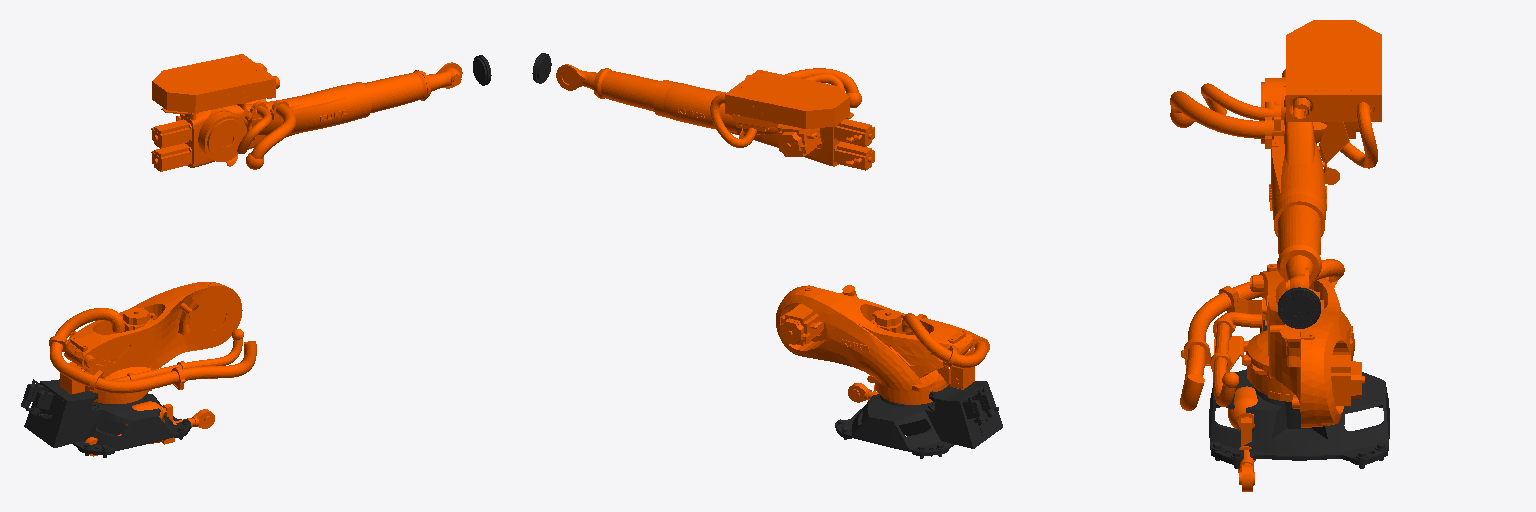
URDF robot description (kuka_kr120_r3900_ultra_k_f_hp):
<?xml version="1.0"?>
<robot name="kuka_kr120_r3900_ultra_k_f_hp">
  <material name="kuka_orange"><color rgba="1.00 0.40 0.00 1.0"/></material>
  <material name="kuka_dark_gray"><color rgba="0.20 0.20 0.20 1.0"/></material>

  <link name="base_link">
    <inertial>
      <origin xyz="-0.188277 0.000153 0.138686" rpy="0 0 0"/>
      <mass value="213.333"/>
      <inertia ixx="6.946073" ixy="0.087961" ixz="1.353677" iyy="11.015422" iyz="-0.030841" izz="15.103490"/>
    </inertial>
    <visual>
      <origin xyz="0 0 0" rpy="0 0 0"/>
      <geometry><mesh filename="meshes/visual/base_link.stl"/></geometry>
      <material name="kuka_dark_gray"/>
    </visual>
    <collision>
      <origin xyz="0 0 0" rpy="0 0 0"/>
      <geometry><mesh filename="meshes/visual/base_link.stl"/></geometry>
    </collision>
  </link>

  <link name="link_1">
    <inertial>
      <origin xyz="0.219565 -0.062623 0.473525" rpy="0 0 0"/>
      <mass value="265.900"/>
      <inertia ixx="13.081316" ixy="-2.682031" ixz="-2.599007" iyy="29.131528" iyz="-2.532057" izz="29.247532"/>
    </inertial>
    <visual>
      <origin xyz="0 0 0" rpy="0 0 0"/>
      <geometry><mesh filename="meshes/visual/link_1.stl"/></geometry>
      <material name="kuka_orange"/>
    </visual>
    <collision>
      <origin xyz="0 0 0" rpy="0 0 0"/>
      <geometry><mesh filename="meshes/visual/link_1.stl"/></geometry>
    </collision>
  </link>

  <link name="link_2">
    <inertial>
      <origin xyz="0.001358 -0.275709 0.599331" rpy="0 0 0"/>
      <mass value="819.500"/>
      <inertia ixx="132.659316" ixy="-0.120738" ixz="-0.656177" iyy="129.180622" iyz="8.520620" izz="14.825736"/>
    </inertial>
    <visual>
      <origin xyz="0 0 0" rpy="0 0 0"/>
      <geometry><mesh filename="meshes/visual/link_2.stl"/></geometry>
      <material name="kuka_orange"/>
    </visual>
    <collision>
      <origin xyz="0 0 0" rpy="0 0 0"/>
      <geometry><mesh filename="meshes/visual/link_2.stl"/></geometry>
    </collision>
  </link>

  <link name="link_3">
    <inertial>
      <origin xyz="0.273939 0.019871 0.066875" rpy="0 0 0"/>
      <mass value="621.600"/>
      <inertia ixx="20.481388" ixy="0.983033" ixz="5.492563" iyy="81.453062" iyz="-1.987178" izz="86.981676"/>
    </inertial>
    <visual>
      <origin xyz="0 0 0" rpy="0 0 0"/>
      <geometry><mesh filename="meshes/visual/link_3.stl"/></geometry>
      <material name="kuka_orange"/>
    </visual>
    <collision>
      <origin xyz="0 0 0" rpy="0 0 0"/>
      <geometry><mesh filename="meshes/visual/link_3.stl"/></geometry>
    </collision>
  </link>

  <link name="link_4">
    <inertial>
      <origin xyz="-0.112935 0.005035 0.000000" rpy="0 0 0"/>
      <mass value="52.400"/>
      <inertia ixx="0.181696" ixy="-0.021491" ixz="0.000004" iyy="0.503461" iyz="0.000224" izz="0.502078"/>
    </inertial>
    <visual>
      <origin xyz="0 0 0" rpy="0 0 0"/>
      <geometry><mesh filename="meshes/visual/link_4.stl"/></geometry>
      <material name="kuka_orange"/>
    </visual>
    <collision>
      <origin xyz="0 0 0" rpy="0 0 0"/>
      <geometry><mesh filename="meshes/visual/link_4.stl"/></geometry>
    </collision>
  </link>

  <link name="link_5">
    <inertial>
      <origin xyz="0.046331 0.015550 -0.000085" rpy="0 0 0"/>
      <mass value="43.900"/>
      <inertia ixx="0.361879" ixy="0.023557" ixz="0.000202" iyy="0.335017" iyz="0.000218" izz="0.477328"/>
    </inertial>
    <visual>
      <origin xyz="0 0 0" rpy="0 0 0"/>
      <geometry><mesh filename="meshes/visual/link_5.stl"/></geometry>
      <material name="kuka_orange"/>
    </visual>
    <collision>
      <origin xyz="0 0 0" rpy="0 0 0"/>
      <geometry><mesh filename="meshes/visual/link_5.stl"/></geometry>
    </collision>
  </link>

  <link name="link_6">
    <inertial>
      <origin xyz="-0.014731 0.000013 -0.000218" rpy="0 0 0"/>
      <mass value="46.160"/>
      <inertia ixx="0.192127" ixy="-0.000003" ixz="-0.000038" iyy="0.124052" iyz="-0.001038" izz="0.123787"/>
    </inertial>
    <visual>
      <origin xyz="0 0 0" rpy="0 0 0"/>
      <geometry><mesh filename="meshes/visual/link_6.stl"/></geometry>
      <material name="kuka_dark_gray"/>
    </visual>
    <collision>
      <origin xyz="0 0 0" rpy="0 0 0"/>
      <geometry><mesh filename="meshes/visual/link_6.stl"/></geometry>
    </collision>
  </link>

  <link name="tool0"/>

  <joint name="joint_a1" type="revolute">
    <parent link="base_link"/>
    <child link="link_1"/>
    <origin xyz="0.000000 0.000000 0.000000" rpy="0 0 0"/>
    <axis xyz="0.0 0.0 -1.0"/>
    <limit lower="-3.228859" upper="3.228859" effort="9600.0" velocity="1.834634"/>
    <dynamics damping="5.0" friction="1.0"/>
  </joint>

  <joint name="joint_a2" type="revolute">
    <parent link="link_1"/>
    <child link="link_2"/>
    <origin xyz="0.750000 0.000000 0.590000" rpy="0 0 0"/>
    <axis xyz="0.0 1.0 0.0"/>
    <limit lower="-0.523599" upper="2.792527" effort="9600.0" velocity="1.762111"/>
    <dynamics damping="5.0" friction="1.0"/>
  </joint>

  <joint name="joint_a3" type="revolute">
    <parent link="link_2"/>
    <child link="link_3"/>
    <origin xyz="0.000000 0.000000 1.350000" rpy="0 0 0"/>
    <axis xyz="0.0 1.0 0.0"/>
    <limit lower="-3.665191" upper="1.134464" effort="6686.8" velocity="1.867525"/>
    <dynamics damping="5.0" friction="1.0"/>
  </joint>

  <joint name="joint_a4" type="revolute">
    <parent link="link_3"/>
    <child link="link_4"/>
    <origin xyz="1.800000 0.000000 -0.041000" rpy="0 0 0"/>
    <axis xyz="-1.0 0.0 -0.0"/>
    <limit lower="-6.108652" upper="6.108652" effort="2275.4" velocity="5.094285"/>
    <dynamics damping="5.0" friction="1.0"/>
  </joint>

  <joint name="joint_a5" type="revolute">
    <parent link="link_4"/>
    <child link="link_5"/>
    <origin xyz="0.000000 0.000000 0.000000" rpy="0 0 0"/>
    <axis xyz="0.0 1.0 0.0"/>
    <limit lower="-2.181662" upper="2.181662" effort="1375.4" velocity="4.495125"/>
    <dynamics damping="5.0" friction="1.0"/>
  </joint>

  <joint name="joint_a6" type="revolute">
    <parent link="link_5"/>
    <child link="link_6"/>
    <origin xyz="0.240000 0.000000 0.000000" rpy="0 0 0"/>
    <axis xyz="-1.0 0.0 -0.0"/>
    <limit lower="-6.108652" upper="6.108652" effort="872.4" velocity="4.957669"/>
    <dynamics damping="5.0" friction="1.0"/>
  </joint>

  <joint name="link_6-tool0" type="fixed">
    <parent link="link_6"/>
    <child link="tool0"/>
    <origin xyz="0.000000 0.000000 0.000000" rpy="0 1.57079632679 0"/>
  </joint>
</robot>

--- Render facts (derived) ---
3 views of the same robot in one strip: view 1: azimuth 30°, elevation 25°; view 2: azimuth 150°, elevation 25°; view 3: azimuth 270°, elevation 25° (orthographic).
Robot: kuka_kr120_r3900_ultra_k_f_hp — 8 links, 7 joints (6 revolute, 1 fixed); root link base_link; default pose: every joint at zero.
Links seen in each view (by area): view 1: link_1, link_3, base_link, link_4; view 2: link_3, link_1, base_link, link_4; view 3: link_3, link_1, base_link, link_4, link_6.
Boxes of the visible links, x1,y1,x2,y2 form: link_1: [49, 282, 256, 456]; link_3: [151, 54, 426, 171]; base_link: [21, 379, 190, 457]; link_4: [415, 62, 462, 100]; link_3: [597, 68, 874, 170]; link_1: [776, 285, 989, 404]; base_link: [835, 381, 1002, 458]; link_4: [556, 64, 608, 98]; link_3: [1170, 20, 1381, 255]; link_1: [1180, 259, 1364, 491]; base_link: [1209, 320, 1389, 468]; link_4: [1277, 245, 1321, 290]; link_6: [1278, 287, 1320, 328].
Bounding box of the posed robot: 3.42 × 1.01 × 2.35 m (x, y, z).
5 mesh visuals loaded from 7 distinct referenced files (5 binary STL); not drawn: 2 (reference not matched to a file when rendering).
